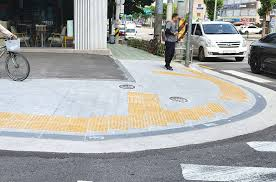guide_blocks: (1, 112, 87, 132), (89, 114, 166, 128), (212, 78, 244, 100), (128, 92, 159, 113), (164, 110, 198, 124), (197, 103, 224, 118), (154, 71, 205, 78)
